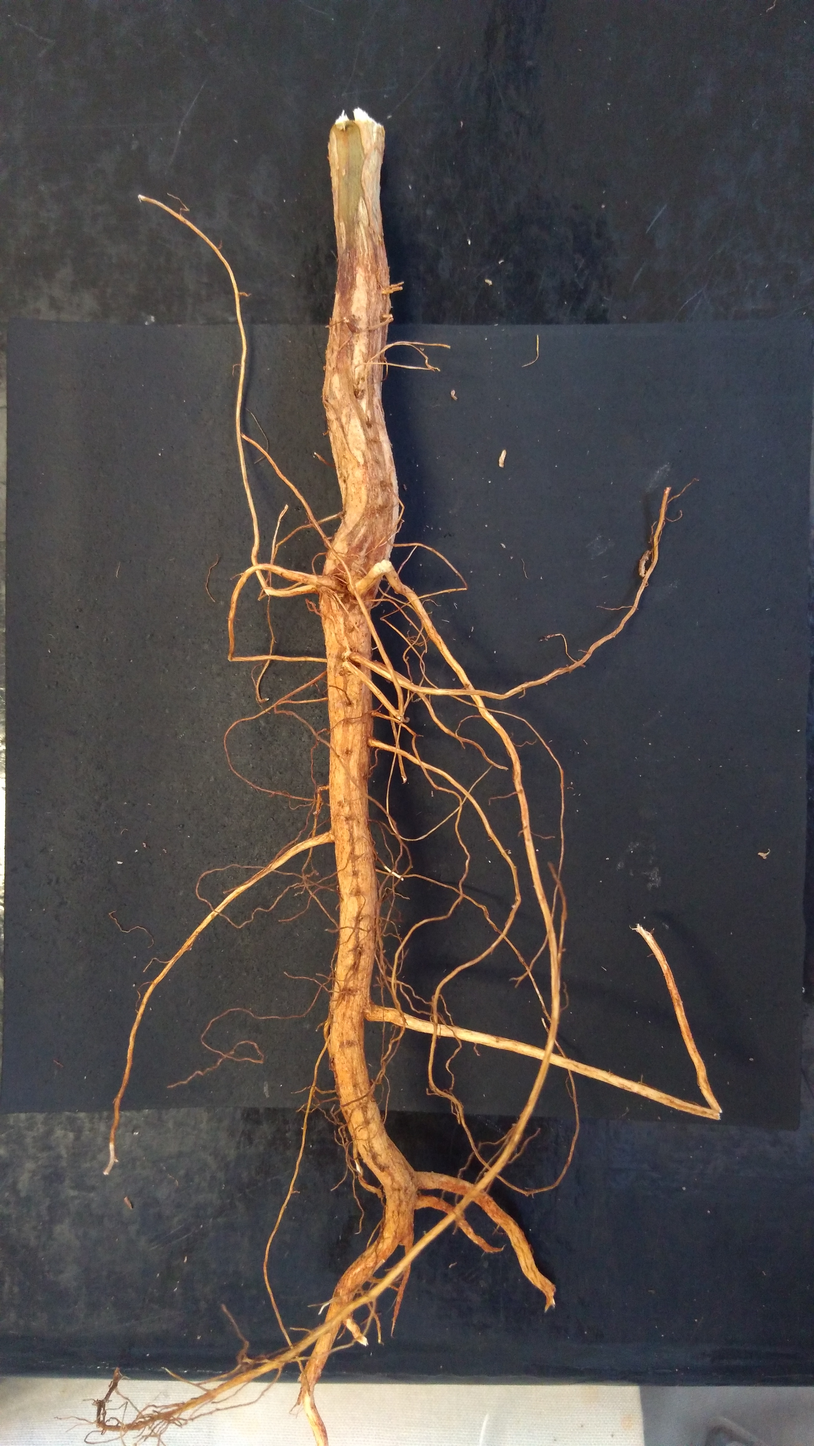nodule: (346, 575, 367, 598), (312, 810, 317, 815)
